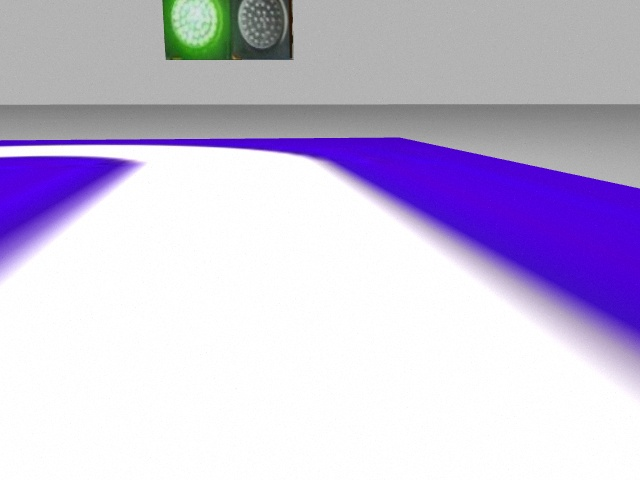green: (162, 2, 231, 60)
